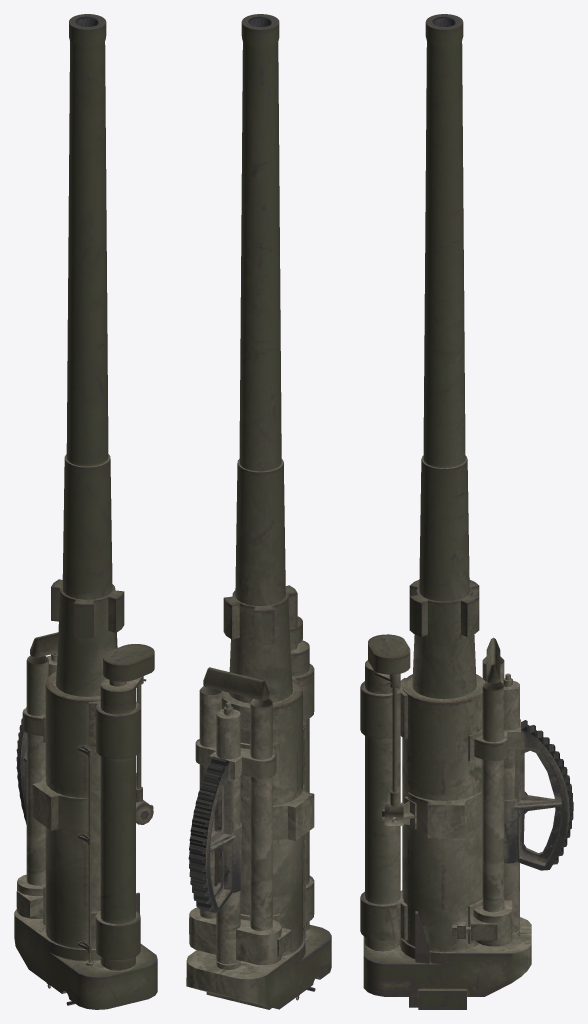
The model's file is Gun_01.glb.
3 renders of one model, left to right at view 1: azimuth 30°, elevation 25°; view 2: azimuth 150°, elevation 25°; view 3: azimuth 270°, elevation 25°, orthographic.
Parts seen in each view (by area): view 1: set_0_group_0; view 2: set_0_group_0; view 3: set_0_group_0.
Boxes of the visible parts, x1,y1,x2,y2 form: set_0_group_0: (14,14,157,1009); set_0_group_0: (186,14,331,1009); set_0_group_0: (360,14,573,1009).
Size of the model in its own units: 0.7056 by 7.32 by 1.45.
Materials: 1 (1 with a texture image).
